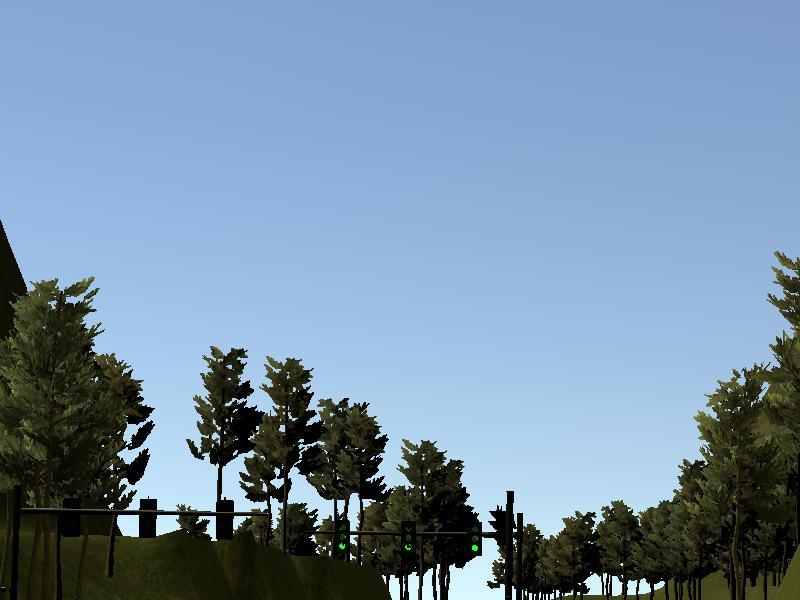Green: (466, 519, 483, 558), (335, 518, 351, 557), (401, 519, 416, 557)
